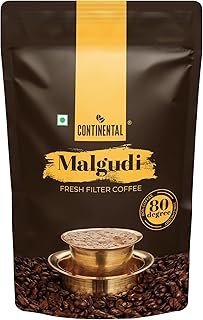Coffee: (2, 3, 203, 315)
